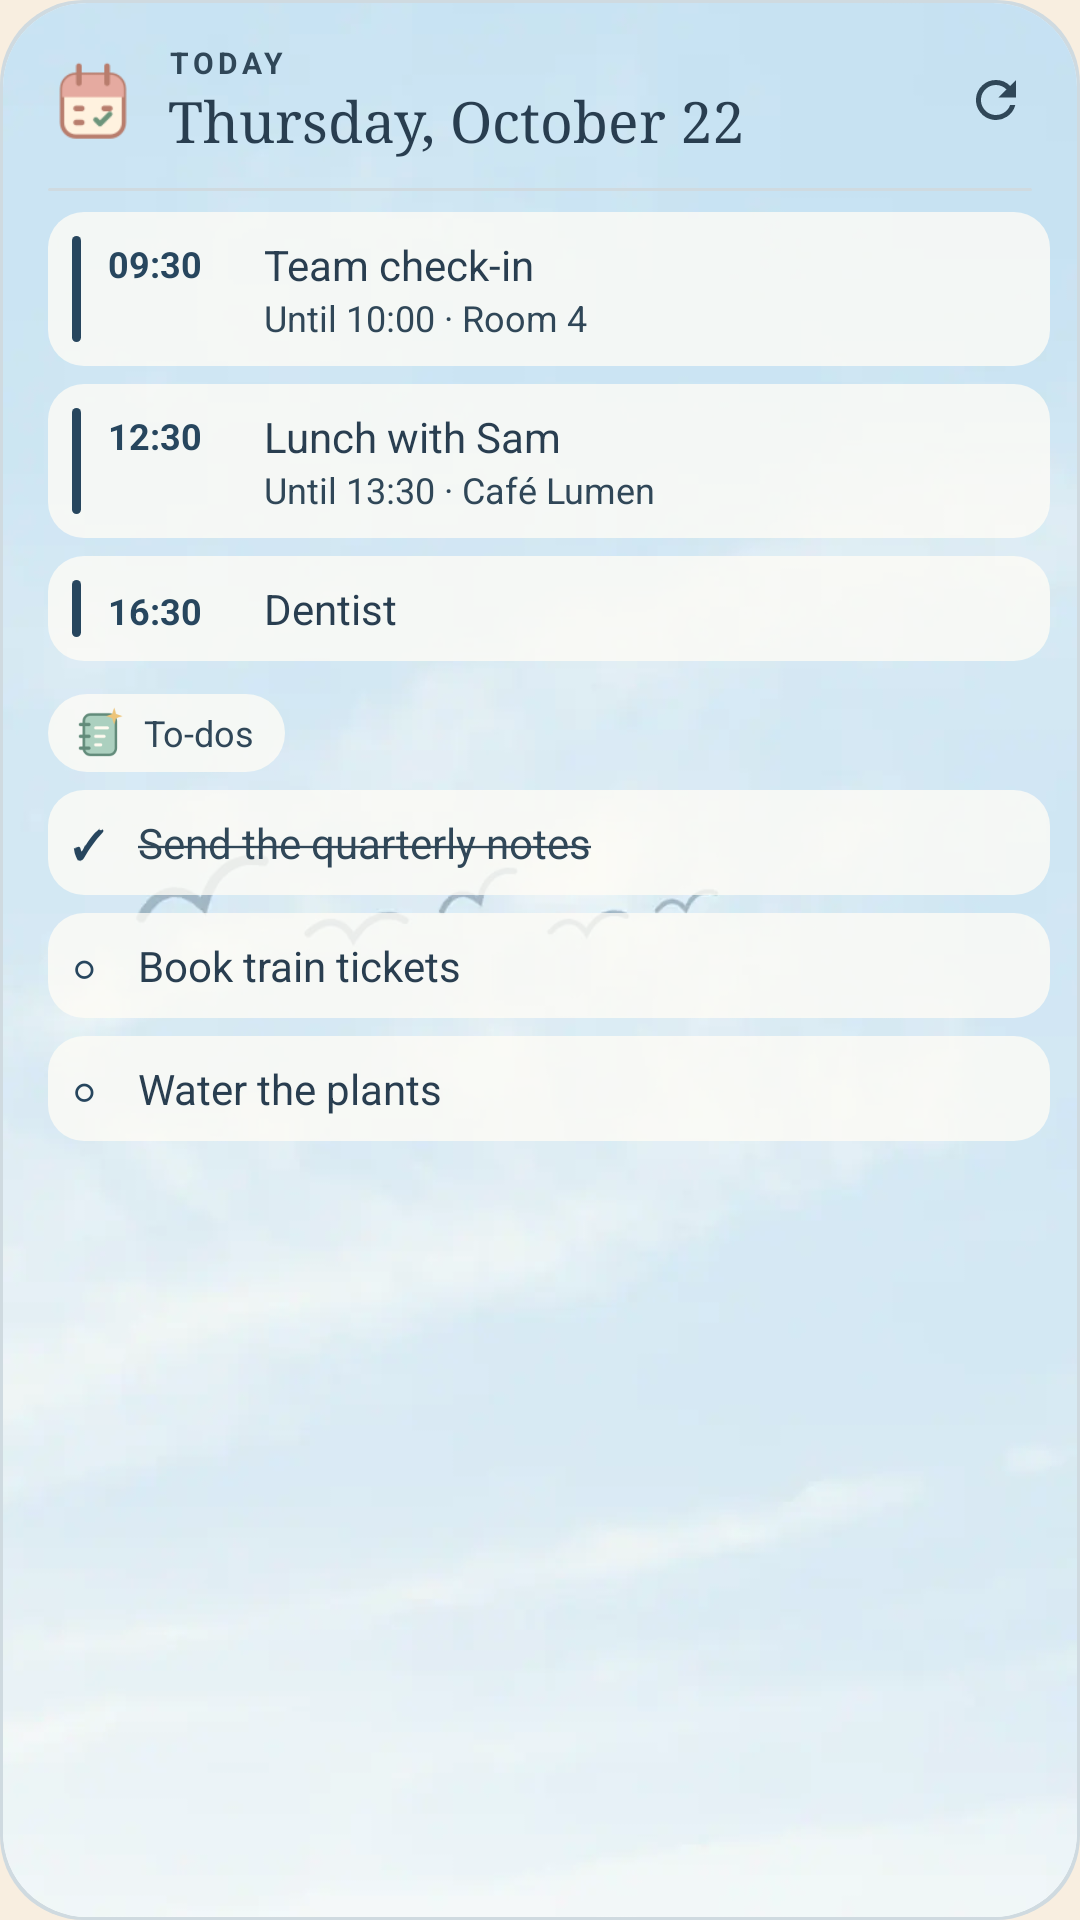

Icon bounding boxes for this 1080w x 1920h phone screenshot, format (x1, y1, x2, y2):
desk schedule: (59, 63, 127, 139)
refresh: (976, 80, 1016, 120)
